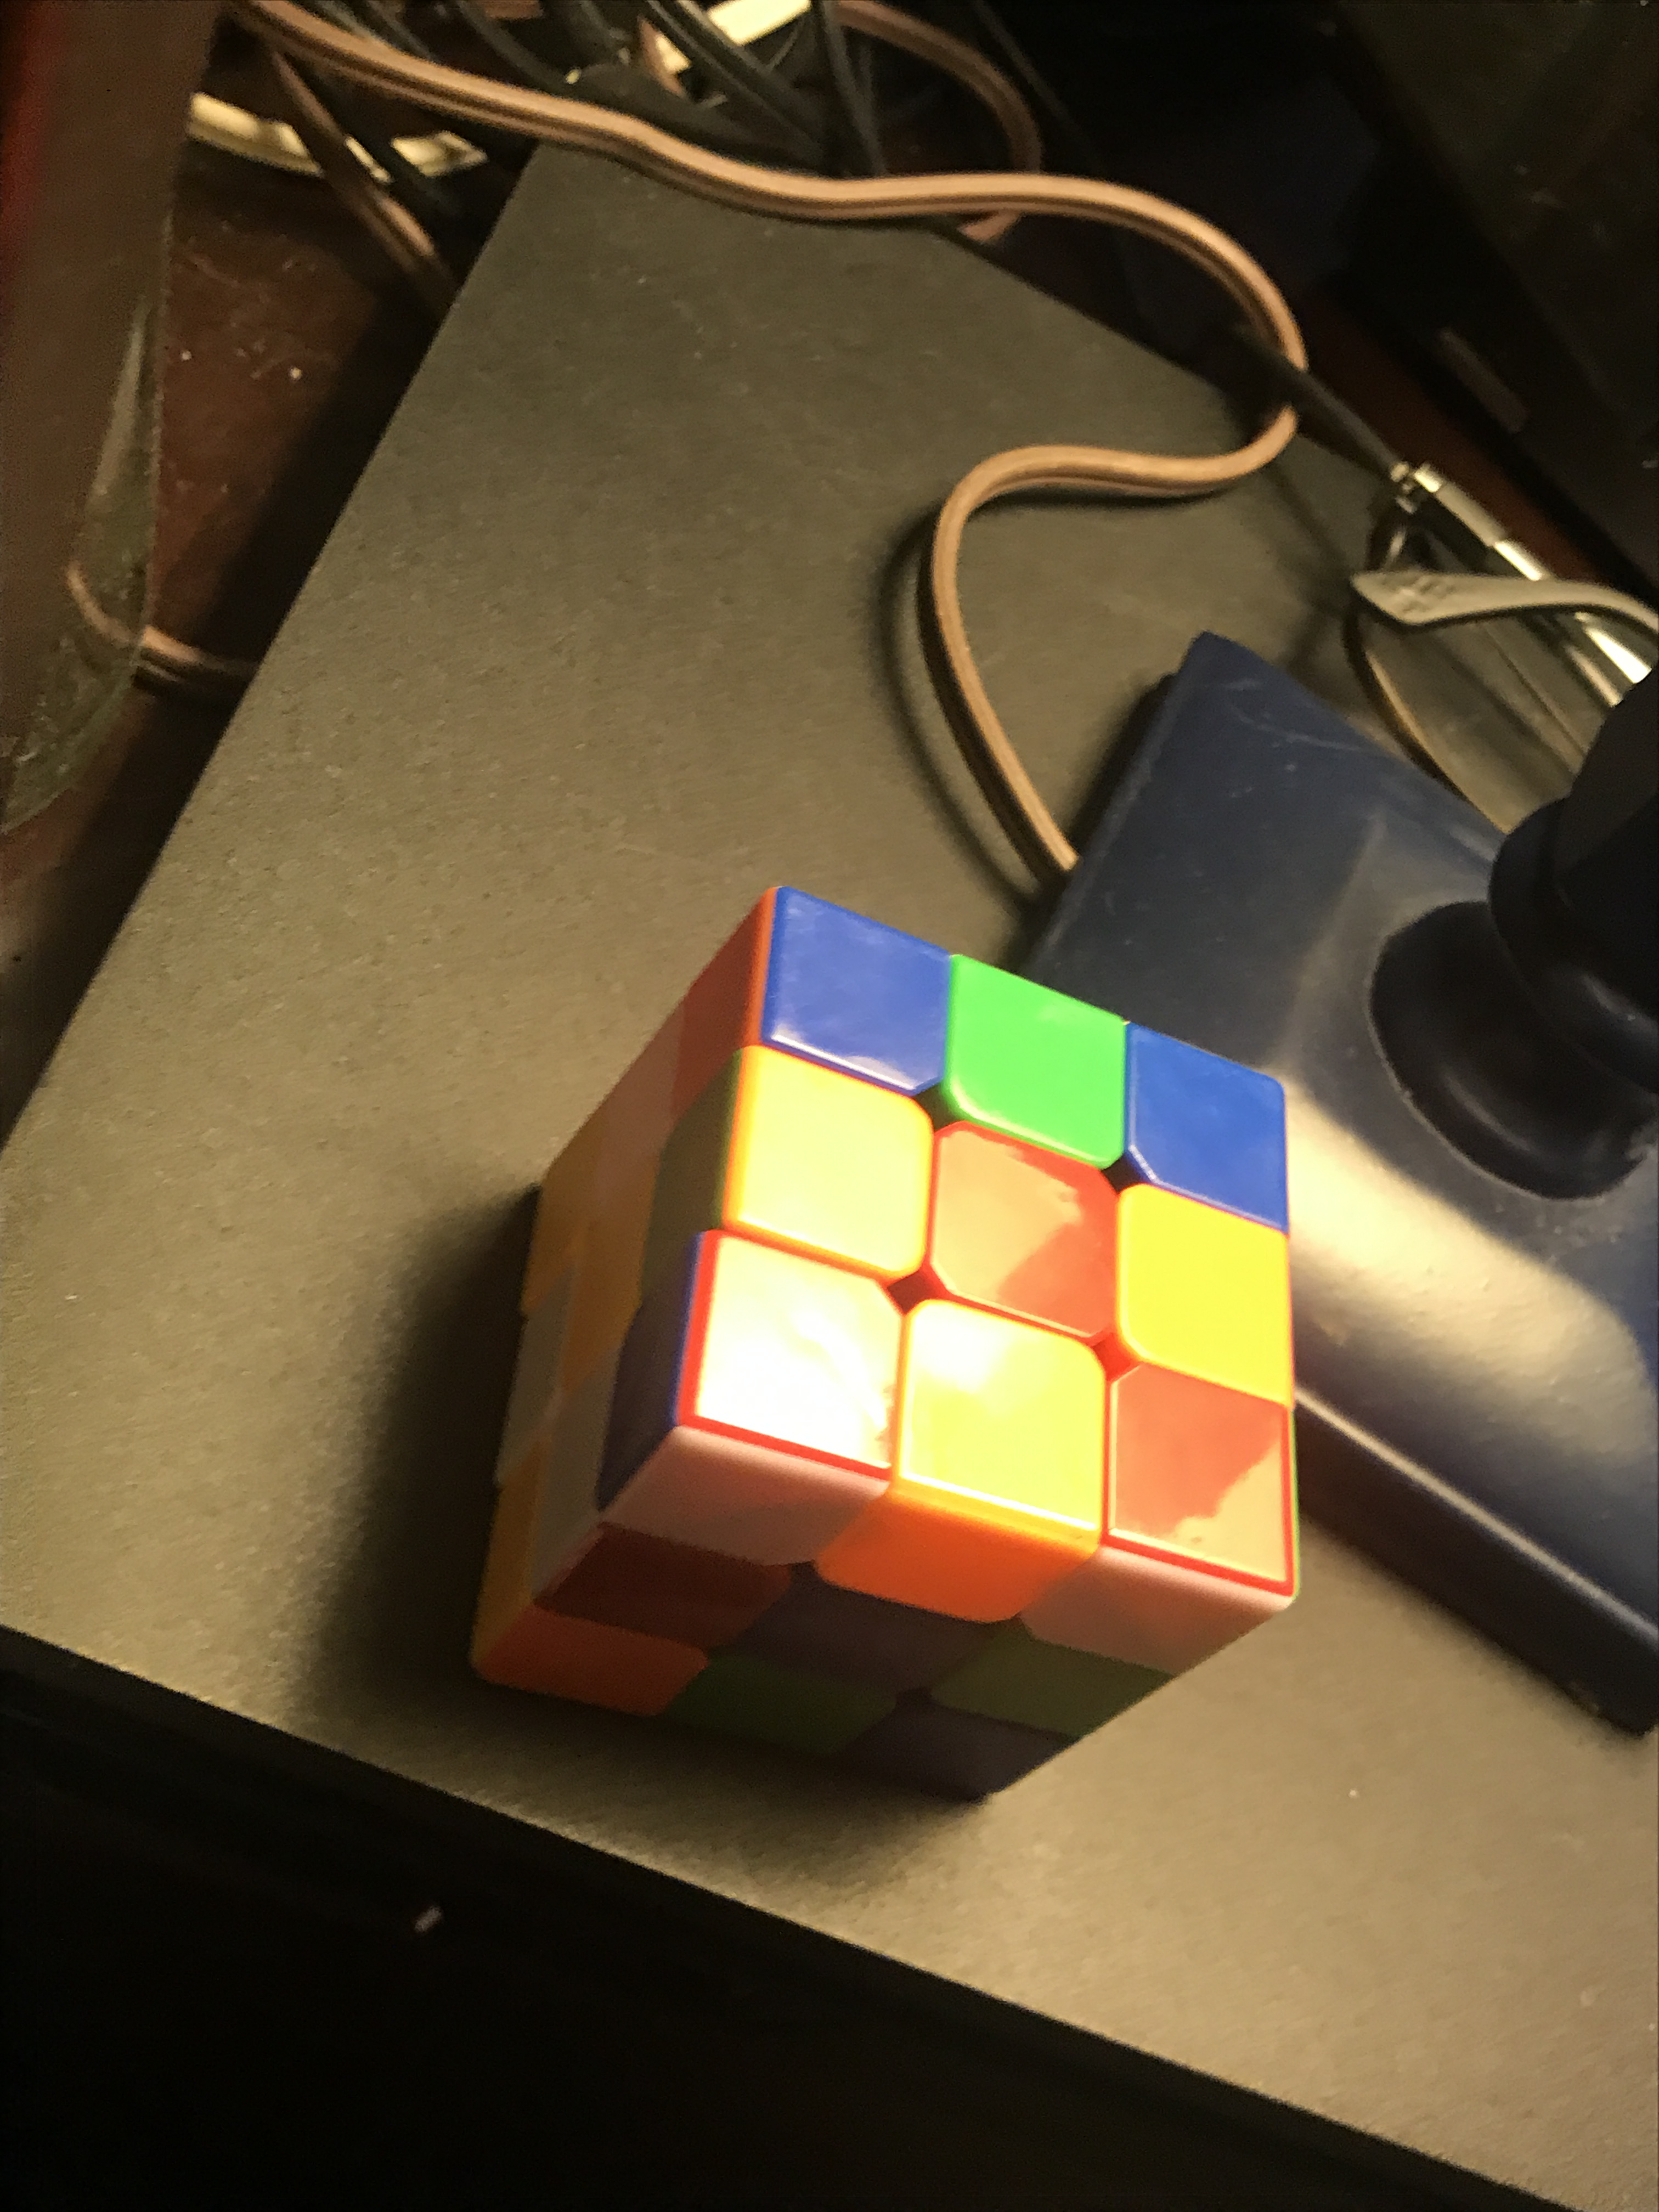rubiks: (465, 888, 1297, 1815)
